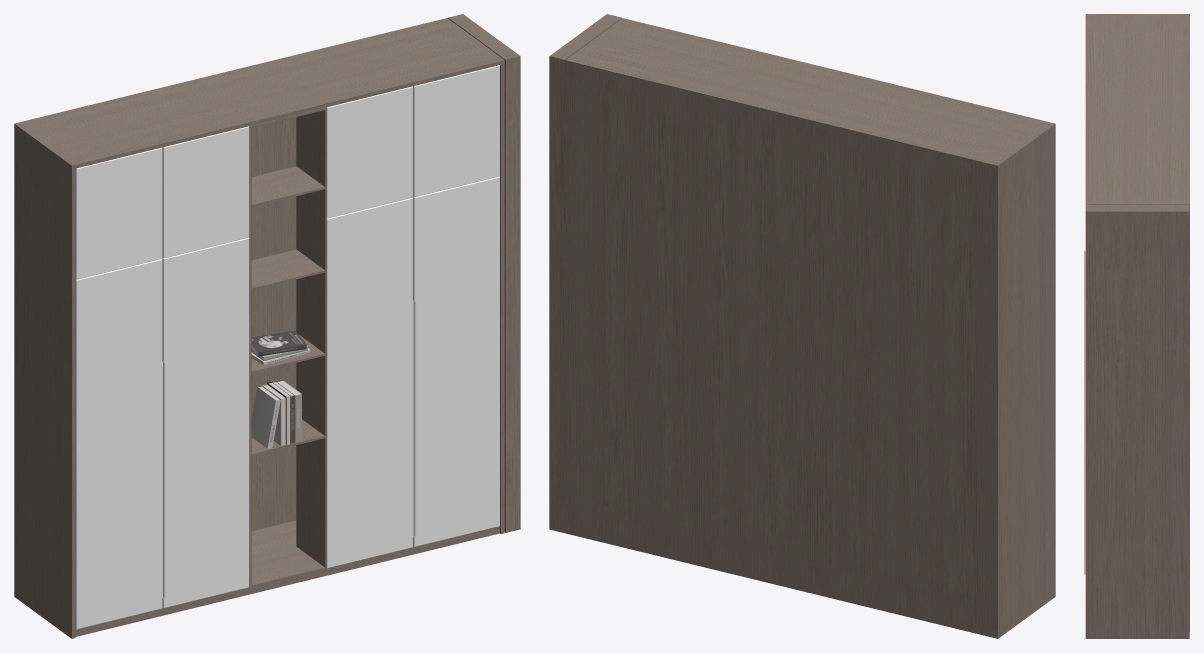
3 views of the same model, side by side, from view 1: azimuth 30°, elevation 25°; view 2: azimuth 150°, elevation 25°; view 3: azimuth 270°, elevation 25° (orthographic). The views are drawn at different scales.
Parts seen in each view (by area): view 1: Mesh19_M_2201261_008_0, Mesh14_M_2201261_004_0, Mesh16_M_2201261_004_0, Mesh15_M_2201261_004_0, Mesh20_M_2201261_004_0, Mesh18_M_2201261_004_0, Mesh9_M_2201261_004_0, Mesh17_M_2201261_004_0, Mesh10_M_2201261_009_0, Mesh6_M_2201261_014_0, Mesh12_M_2201261_009_0, Mesh7_M_2201261_011_0 (+2 smaller); view 2: Mesh20_M_2201261_004_0, Mesh14_M_2201261_004_0, Mesh16_M_2201261_004_0, Mesh17_M_2201261_004_0, Mesh9_M_2201261_004_0, Mesh18_M_2201261_004_0; view 3: Mesh18_M_2201261_004_0, Mesh16_M_2201261_004_0, Mesh17_M_2201261_004_0, Mesh10_M_2201261_009_0, Mesh12_M_2201261_009_0, Mesh14_M_2201261_004_0, Mesh19_M_2201261_008_0.
Boxes of the visible parts, x1,y1,x2,y2 form: Mesh19_M_2201261_008_0: (75,65,499,629); Mesh14_M_2201261_004_0: (14,122,75,638); Mesh16_M_2201261_004_0: (18,19,500,168); Mesh15_M_2201261_004_0: (249,107,326,587); Mesh20_M_2201261_004_0: (251,18,447,530); Mesh18_M_2201261_004_0: (448,14,520,532); Mesh9_M_2201261_004_0: (75,520,499,636); Mesh17_M_2201261_004_0: (444,18,504,534); Mesh10_M_2201261_009_0: (413,300,418,535); Mesh6_M_2201261_014_0: (251,386,280,448); Mesh12_M_2201261_009_0: (162,361,167,597); Mesh7_M_2201261_011_0: (251,330,306,356); Mesh20_M_2201261_004_0: (549,56,997,638); Mesh14_M_2201261_004_0: (995,123,1055,638); Mesh16_M_2201261_004_0: (569,19,1051,168); Mesh17_M_2201261_004_0: (565,18,625,534); Mesh9_M_2201261_004_0: (569,527,994,633); Mesh18_M_2201261_004_0: (549,14,621,59); Mesh18_M_2201261_004_0: (1085,205,1189,638); Mesh16_M_2201261_004_0: (1086,15,1189,202); Mesh17_M_2201261_004_0: (1085,203,1189,631); Mesh10_M_2201261_009_0: (1084,362,1085,575); Mesh12_M_2201261_009_0: (1084,251,1085,361); Mesh14_M_2201261_004_0: (1085,14,1189,19); Mesh19_M_2201261_008_0: (1085,20,1085,202).
Bounding box in the file's own units: 0.2186 × 0.2203 × 0.0494.
6 materials, 4 textured.
